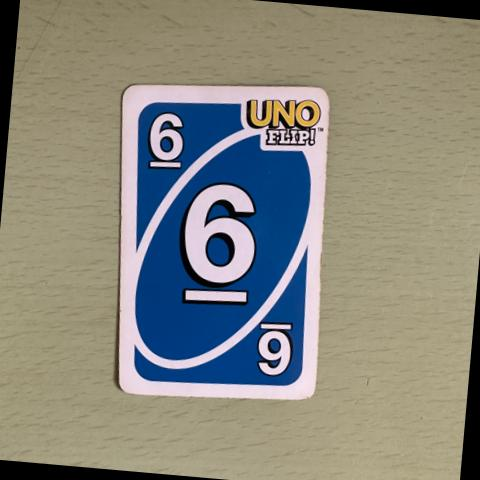lblue-6: (124, 92, 202, 196)
